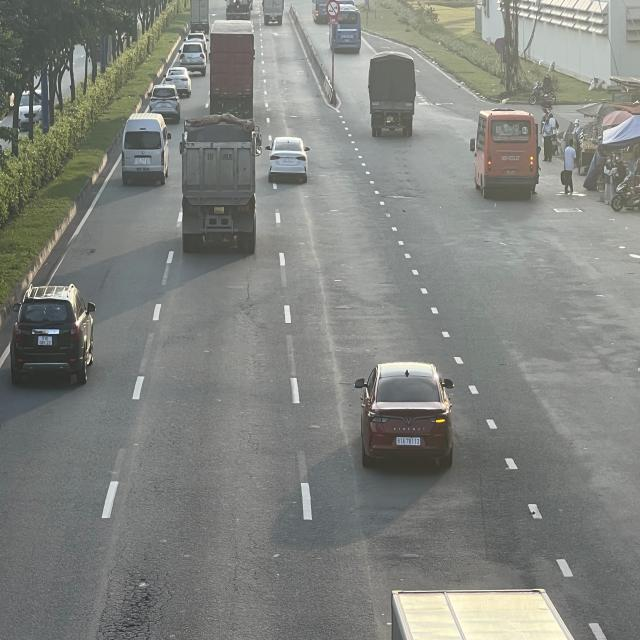car: (356, 364, 456, 472), (12, 286, 96, 386), (266, 136, 310, 184), (147, 85, 183, 124), (180, 38, 207, 77), (167, 66, 192, 96)
coach: (333, 2, 362, 54)
container: (180, 116, 259, 254), (210, 18, 256, 117)
truck: (365, 50, 415, 136), (189, 0, 211, 32), (264, 0, 285, 25)
van: (471, 110, 540, 197), (122, 114, 173, 186)
